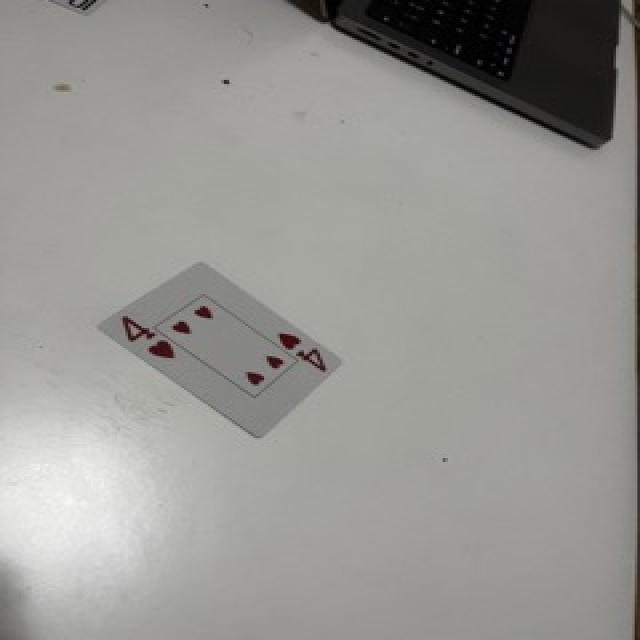4 of hearts: (100, 262, 340, 436)
